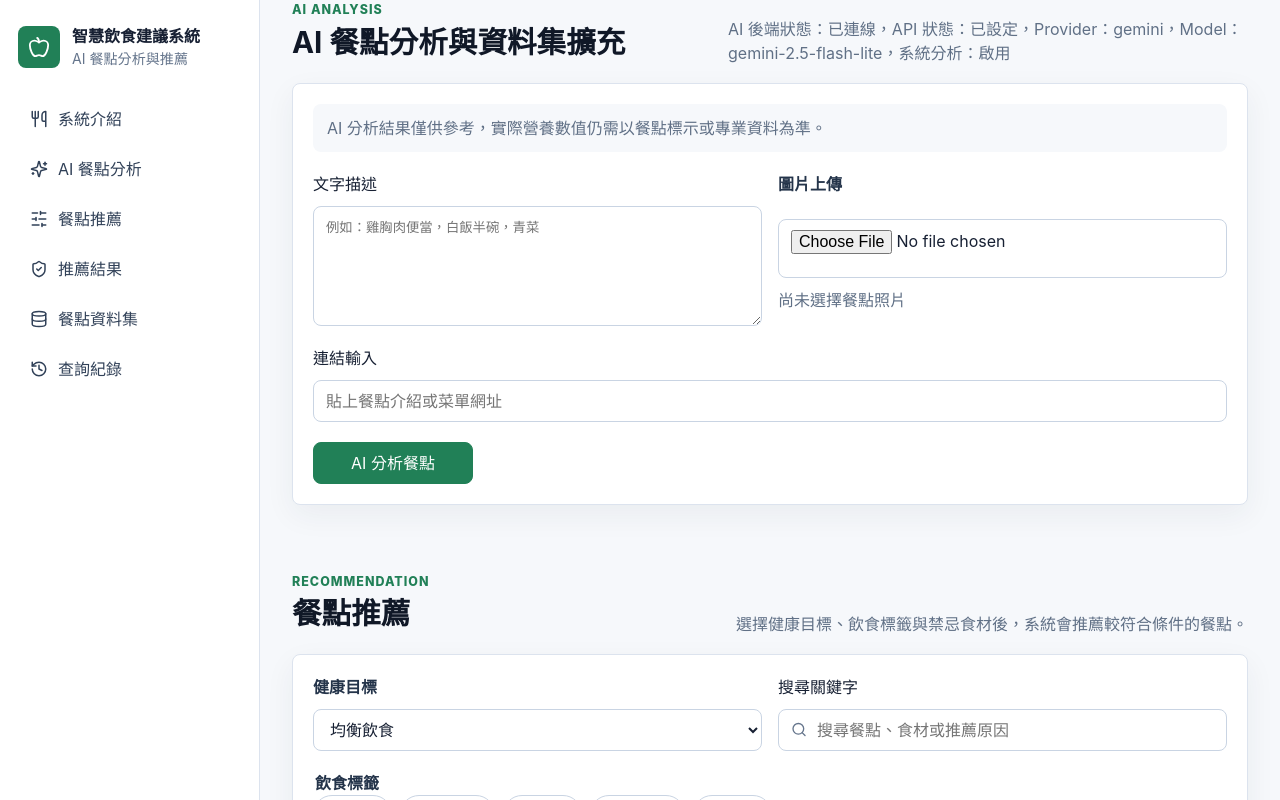
it: App › analyzes with only URL input and displays backend recommendation categories
This screenshot has width=1280, height=800.
(page scrolled)
Type "https://example.com/cinnamon-swirl.html" into the field labelled "連結輸入".
click(770, 400); type("https://example.com/cinnamon-swirl.html")  # box [313, 380, 1227, 422]
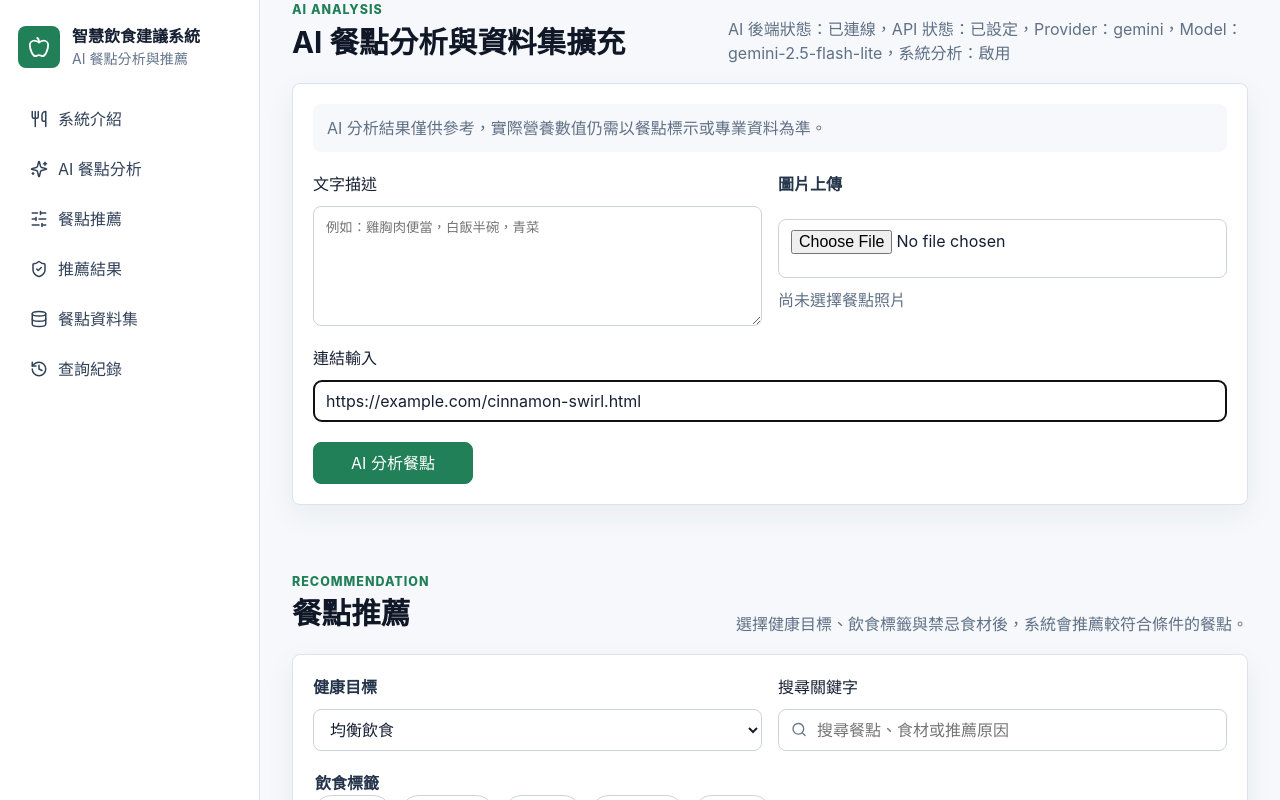
Click the button "AI 分析餐點".
click(393, 462)  # box [313, 442, 473, 484]
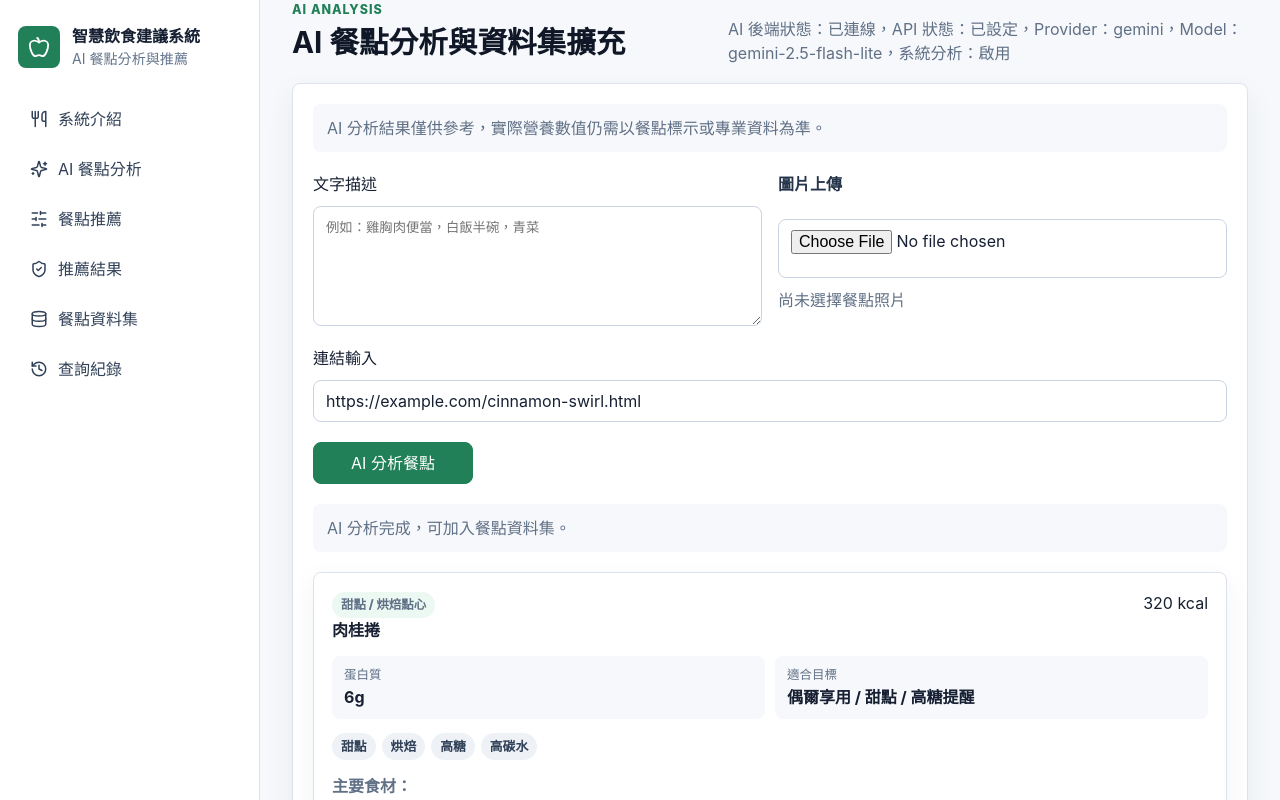
Result: the heading "肉桂捲" is shown at [332, 620, 380, 640]
Result: the text "偶爾享用 / 甜點 / 高糖提醒" is shown at [787, 687, 975, 707]
